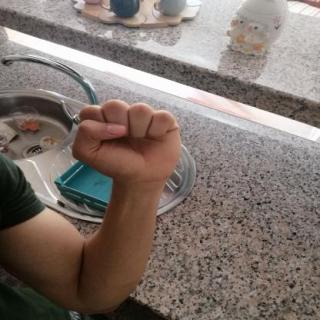SAD: (60, 92, 192, 191)
